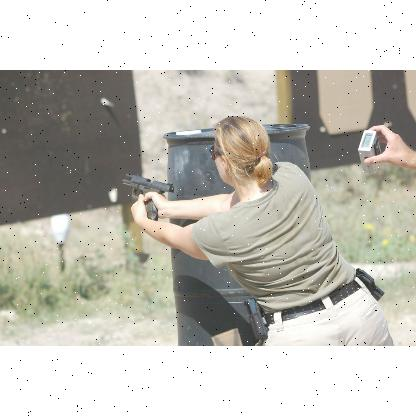gun: (121, 173, 173, 219)
